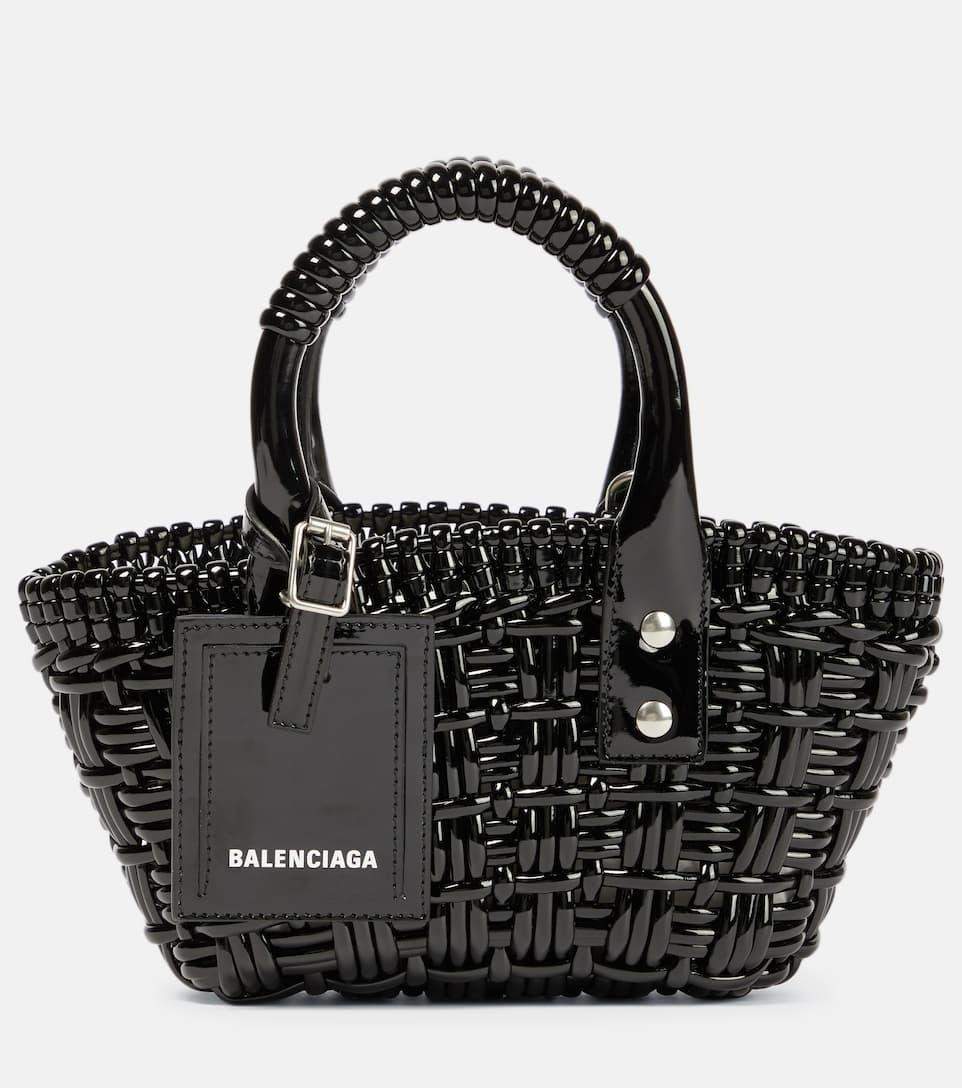BALENCIAGA: (228, 848, 377, 870)
